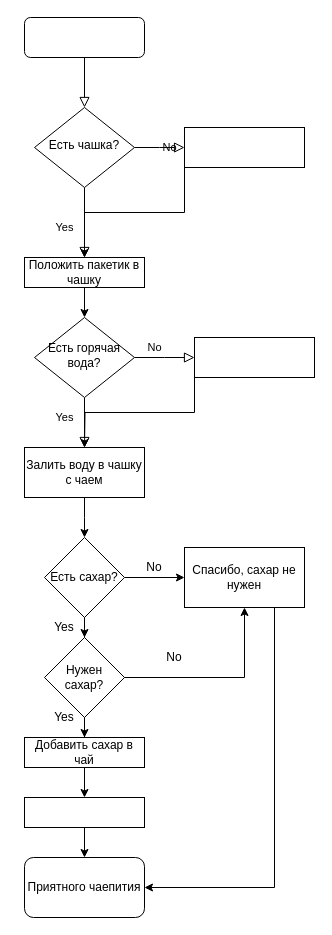
This 332x935 diagram has some shape labels left out. Here are the shapes that lost their labels. From the top down, the centre of each, then its label:
pixel 84 37: Есть "пакетик чая"
pixel 244 147: Купить или взять у кого-то
pixel 254 357: Подогреть воду
pixel 84 812: Размешать сахар в чае
